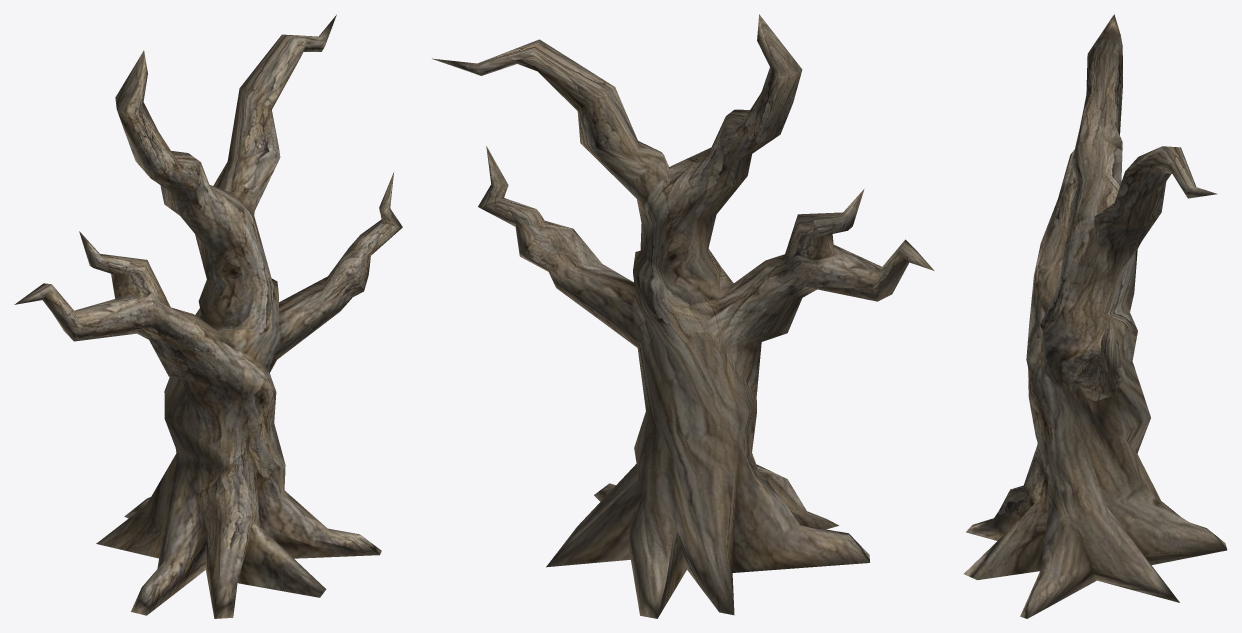
The model's file is tree-dead-01.glb.
The picture shows the model from 3 angles, left to right: view 1: azimuth 30°, elevation 25°; view 2: azimuth 150°, elevation 25°; view 3: azimuth 270°, elevation 25°; orthographic projection. The views are drawn at different scales.
Bounding box in the file's own units: 0.7749 × 0.9556 × 0.4468.
1 material, 1 textured.
